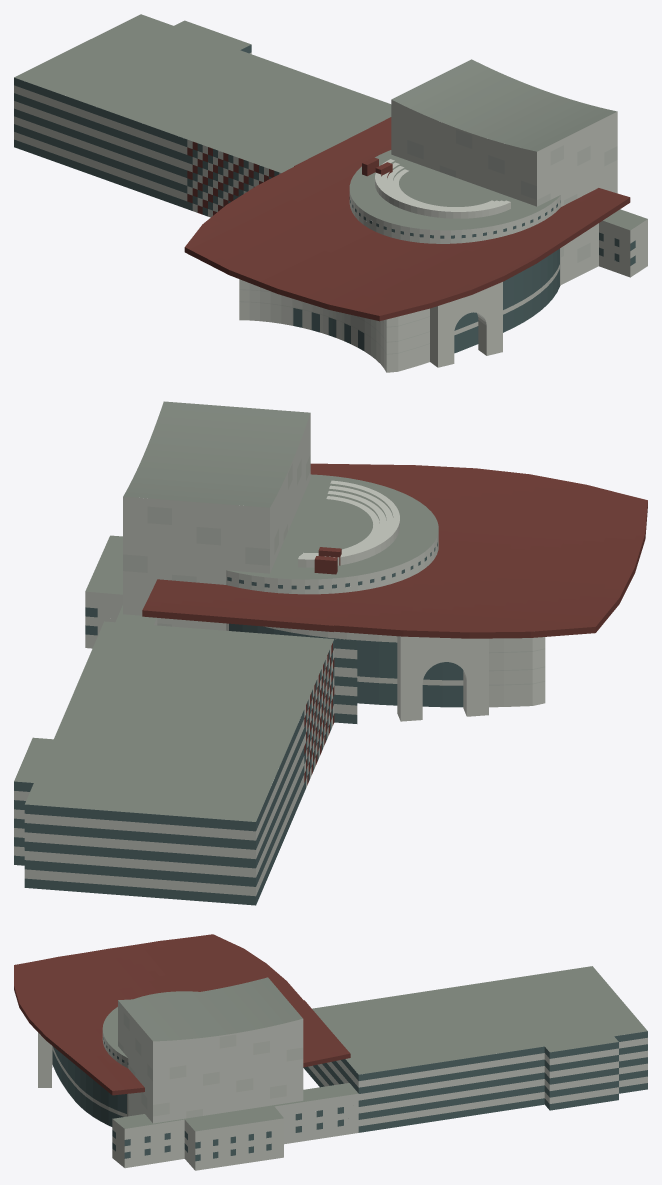
The model's file is national-theatre-bucharest-near.glb.
3 renders of one model, top to bottom at view 1: azimuth 30°, elevation 25°; view 2: azimuth 150°, elevation 25°; view 3: azimuth 270°, elevation 25°, orthographic. The views are drawn at different scales.
Parts seen in each view (by area): view 1: national-theatre-bucharest-0-roof, national-theatre-bucharest-0-stone, national-theatre-bucharest-0-red, national-theatre-bucharest-0-glass, national-theatre-bucharest-0-stone2; view 2: national-theatre-bucharest-0-roof, national-theatre-bucharest-0-red, national-theatre-bucharest-0-stone, national-theatre-bucharest-0-glass, national-theatre-bucharest-0-stone2; view 3: national-theatre-bucharest-0-stone, national-theatre-bucharest-0-roof, national-theatre-bucharest-0-red, national-theatre-bucharest-0-glass, national-theatre-bucharest-0-stone2.
Boxes of the visible parts, x1,y1,x2,y2 form: national-theatre-bucharest-0-roof: (14, 14, 647, 230); national-theatre-bucharest-0-stone: (14, 52, 647, 372); national-theatre-bucharest-0-red: (184, 117, 630, 321); national-theatre-bucharest-0-glass: (14, 45, 635, 353); national-theatre-bucharest-0-stone2: (239, 129, 617, 354); national-theatre-bucharest-0-roof: (14, 401, 438, 821); national-theatre-bucharest-0-red: (142, 463, 647, 784); national-theatre-bucharest-0-stone: (14, 413, 545, 896); national-theatre-bucharest-0-glass: (14, 542, 463, 905); national-theatre-bucharest-0-stone2: (123, 454, 545, 685); national-theatre-bucharest-0-stone: (38, 1000, 647, 1170); national-theatre-bucharest-0-roof: (102, 966, 647, 1131); national-theatre-bucharest-0-red: (14, 934, 350, 1095); national-theatre-bucharest-0-glass: (52, 1031, 647, 1161); national-theatre-bucharest-0-stone2: (118, 1013, 303, 1118).
Size of the model in its own units: 116 by 38.6 by 183.
